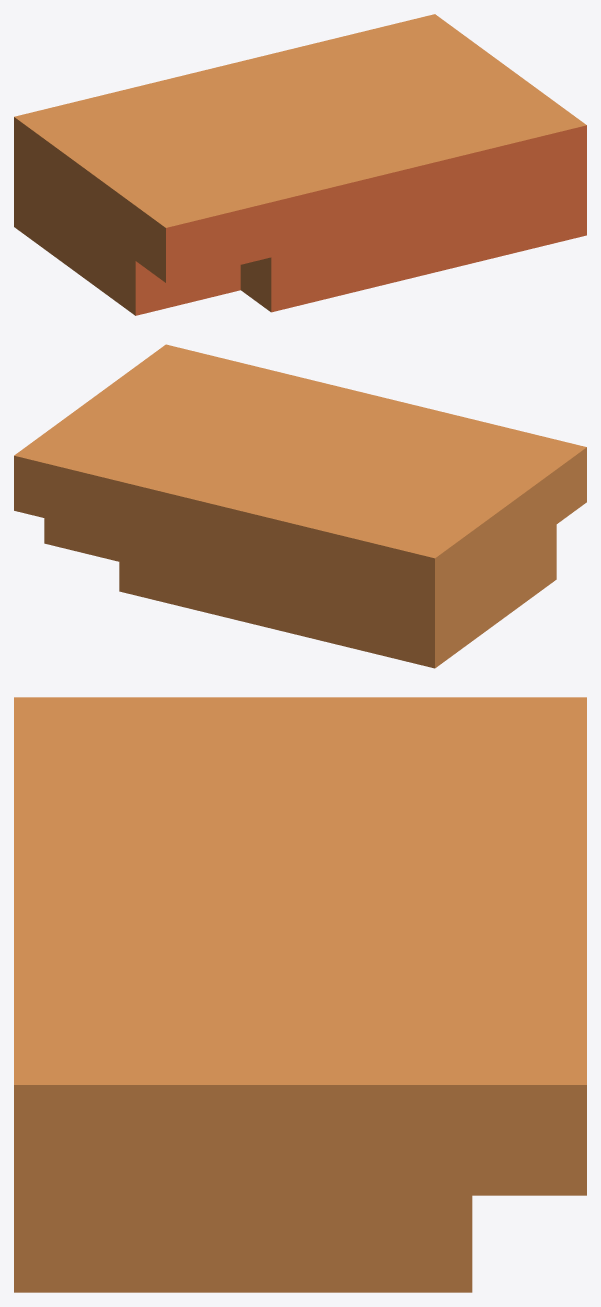
Rendered from muro.fbx.
3 views of the same model, one above another, from view 1: azimuth 30°, elevation 25°; view 2: azimuth 150°, elevation 25°; view 3: azimuth 270°, elevation 25° (orthographic). The views are drawn at different scales.
Parts seen in each view (by area): view 1: muro; view 2: muro; view 3: muro.
Part boxes in pixels (box(x1,y1,x2,y2)): muro: box(14, 14, 586, 315); muro: box(14, 344, 586, 668); muro: box(14, 697, 586, 1292).
Bounding box in the file's own units: 800 × 200 × 500.
